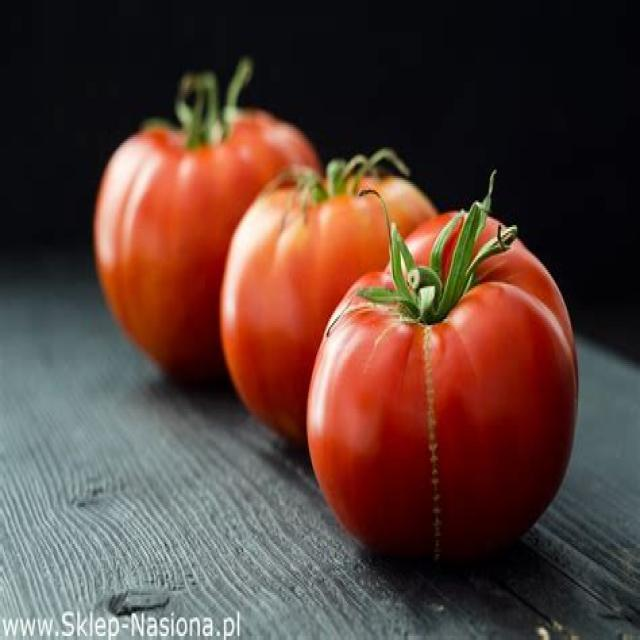Tomato: (304, 204, 580, 568), (219, 156, 438, 467), (92, 109, 319, 387)
